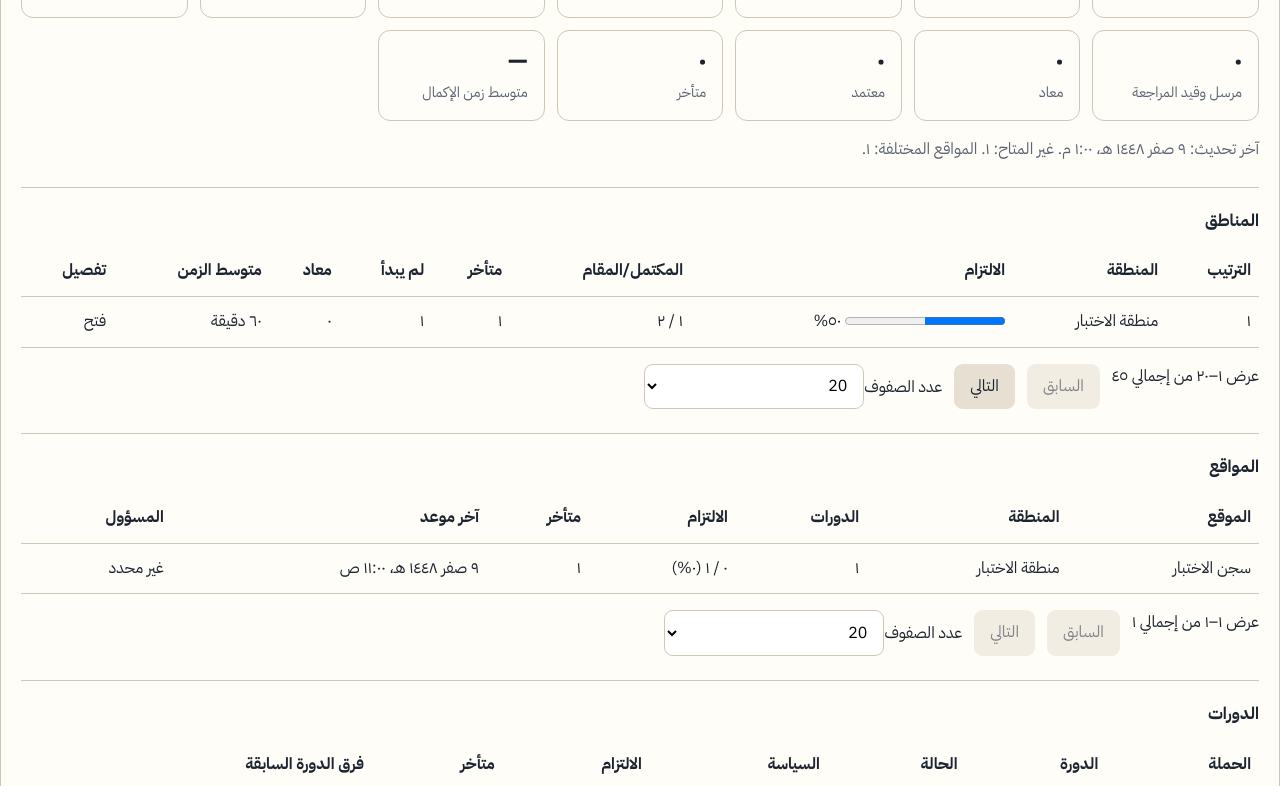
Test: FormCompliancePage › passes independent pagination to regions without changing facilities page
(page scrolled)
Click the button "التالي" in the row of "عرض ١–٢٠ من إجمالي ٤٥". click: (984,386)
box: left=954, top=364, right=1015, bottom=409
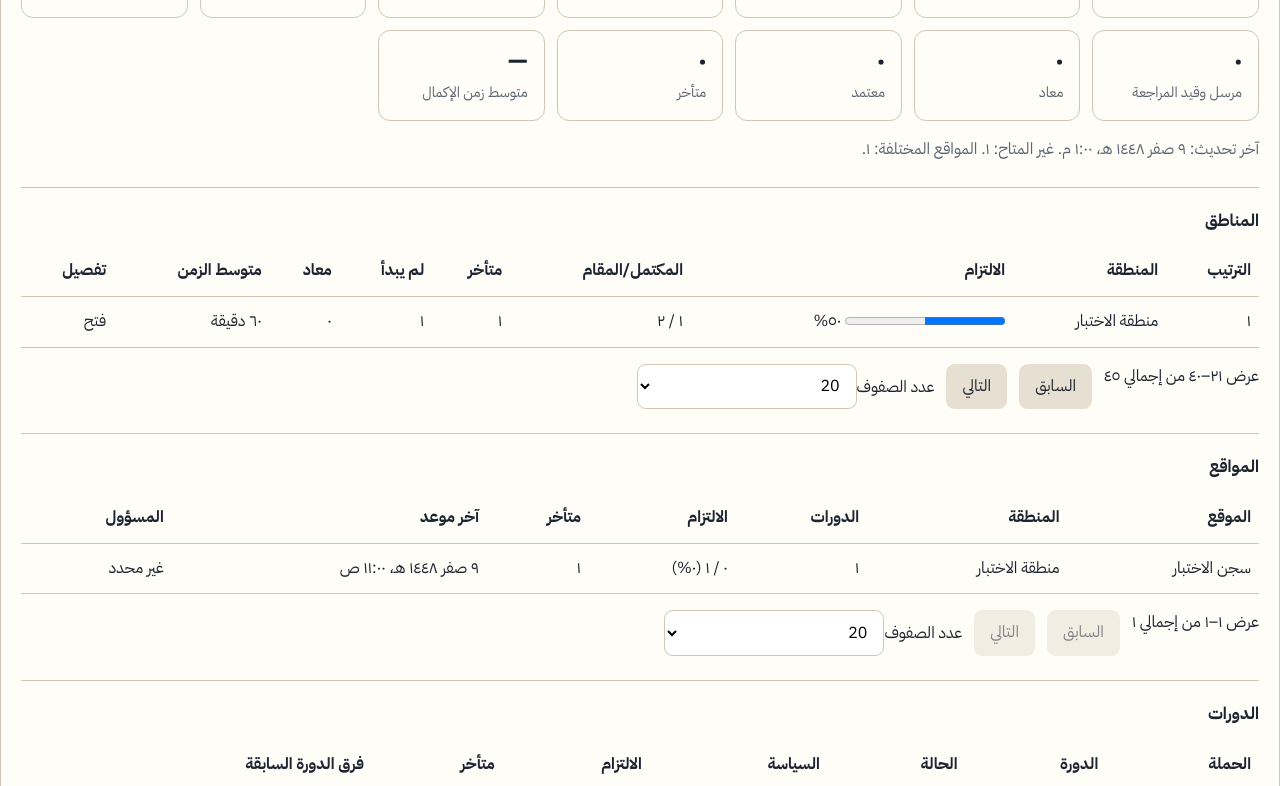
Now the text "عرض ٢١–٤٠ من إجمالي ٤٥" is shown, box left=1104, top=364, right=1259, bottom=388
